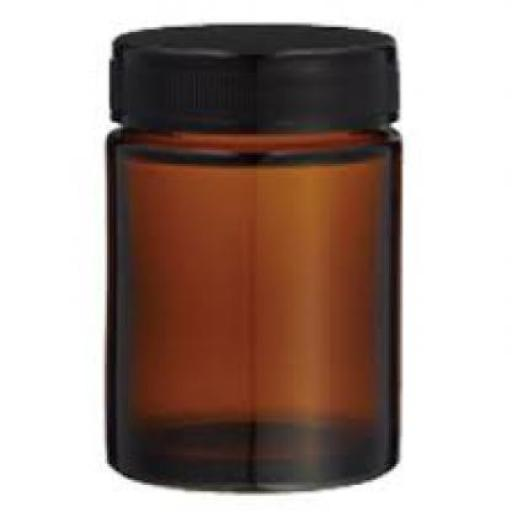glass: (109, 123, 405, 494)
plastic: (110, 23, 400, 125)
